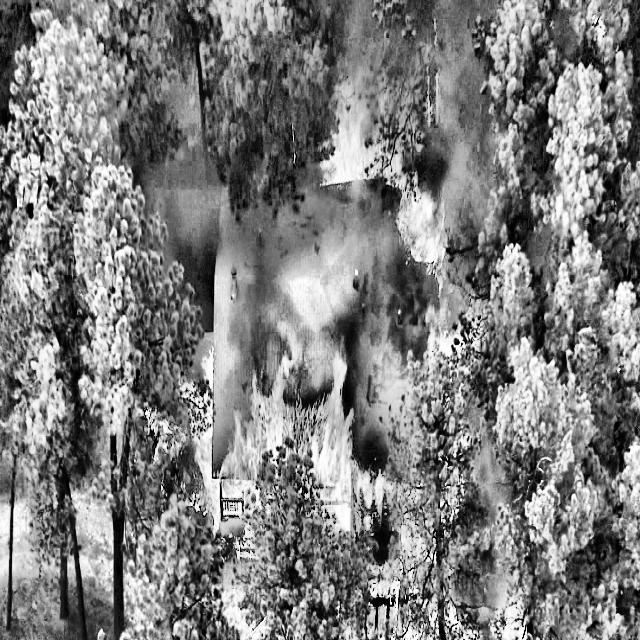fire: (119, 267, 383, 575), (308, 37, 504, 354), (338, 395, 520, 640)
